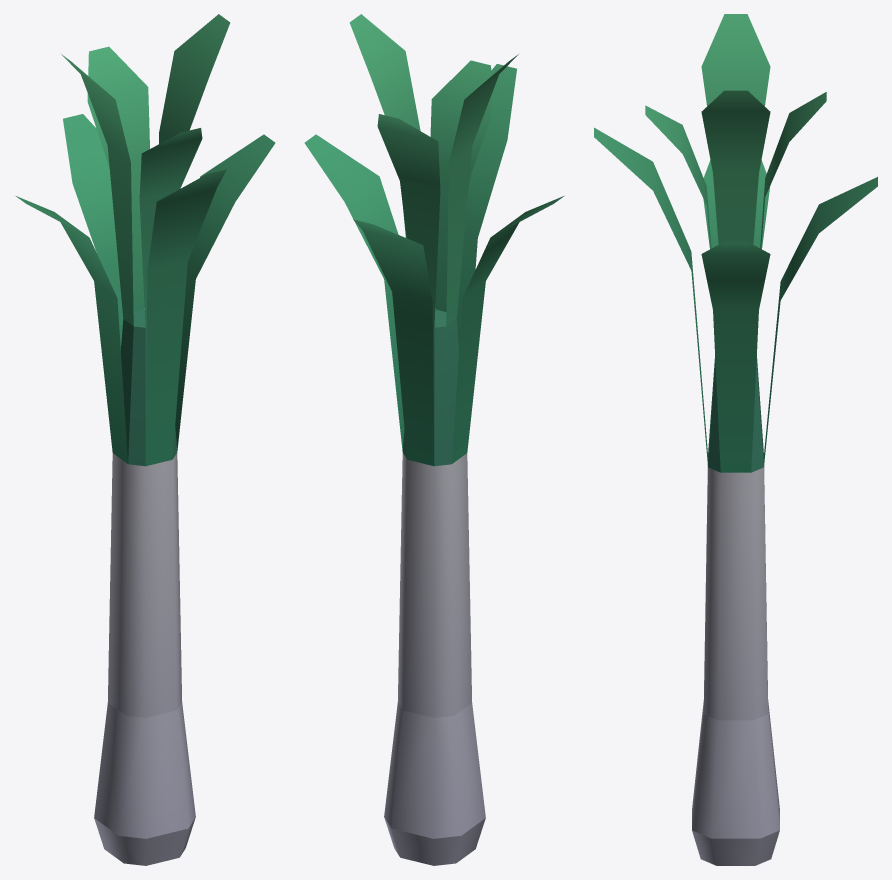
Rendered from leek.glb.
3 views of the same model, side by side, from view 1: azimuth 30°, elevation 25°; view 2: azimuth 150°, elevation 25°; view 3: azimuth 270°, elevation 25° (orthographic).
Parts seen in each view (by area): view 1: leek; view 2: leek; view 3: leek.
Boxes of the visible parts, x1,y1,x2,y2 form: leek: (16,14,275,865); leek: (304,14,563,865); leek: (594,14,877,865).
Size of the model in its own units: 0.2729 by 0.8474 by 0.2729.
